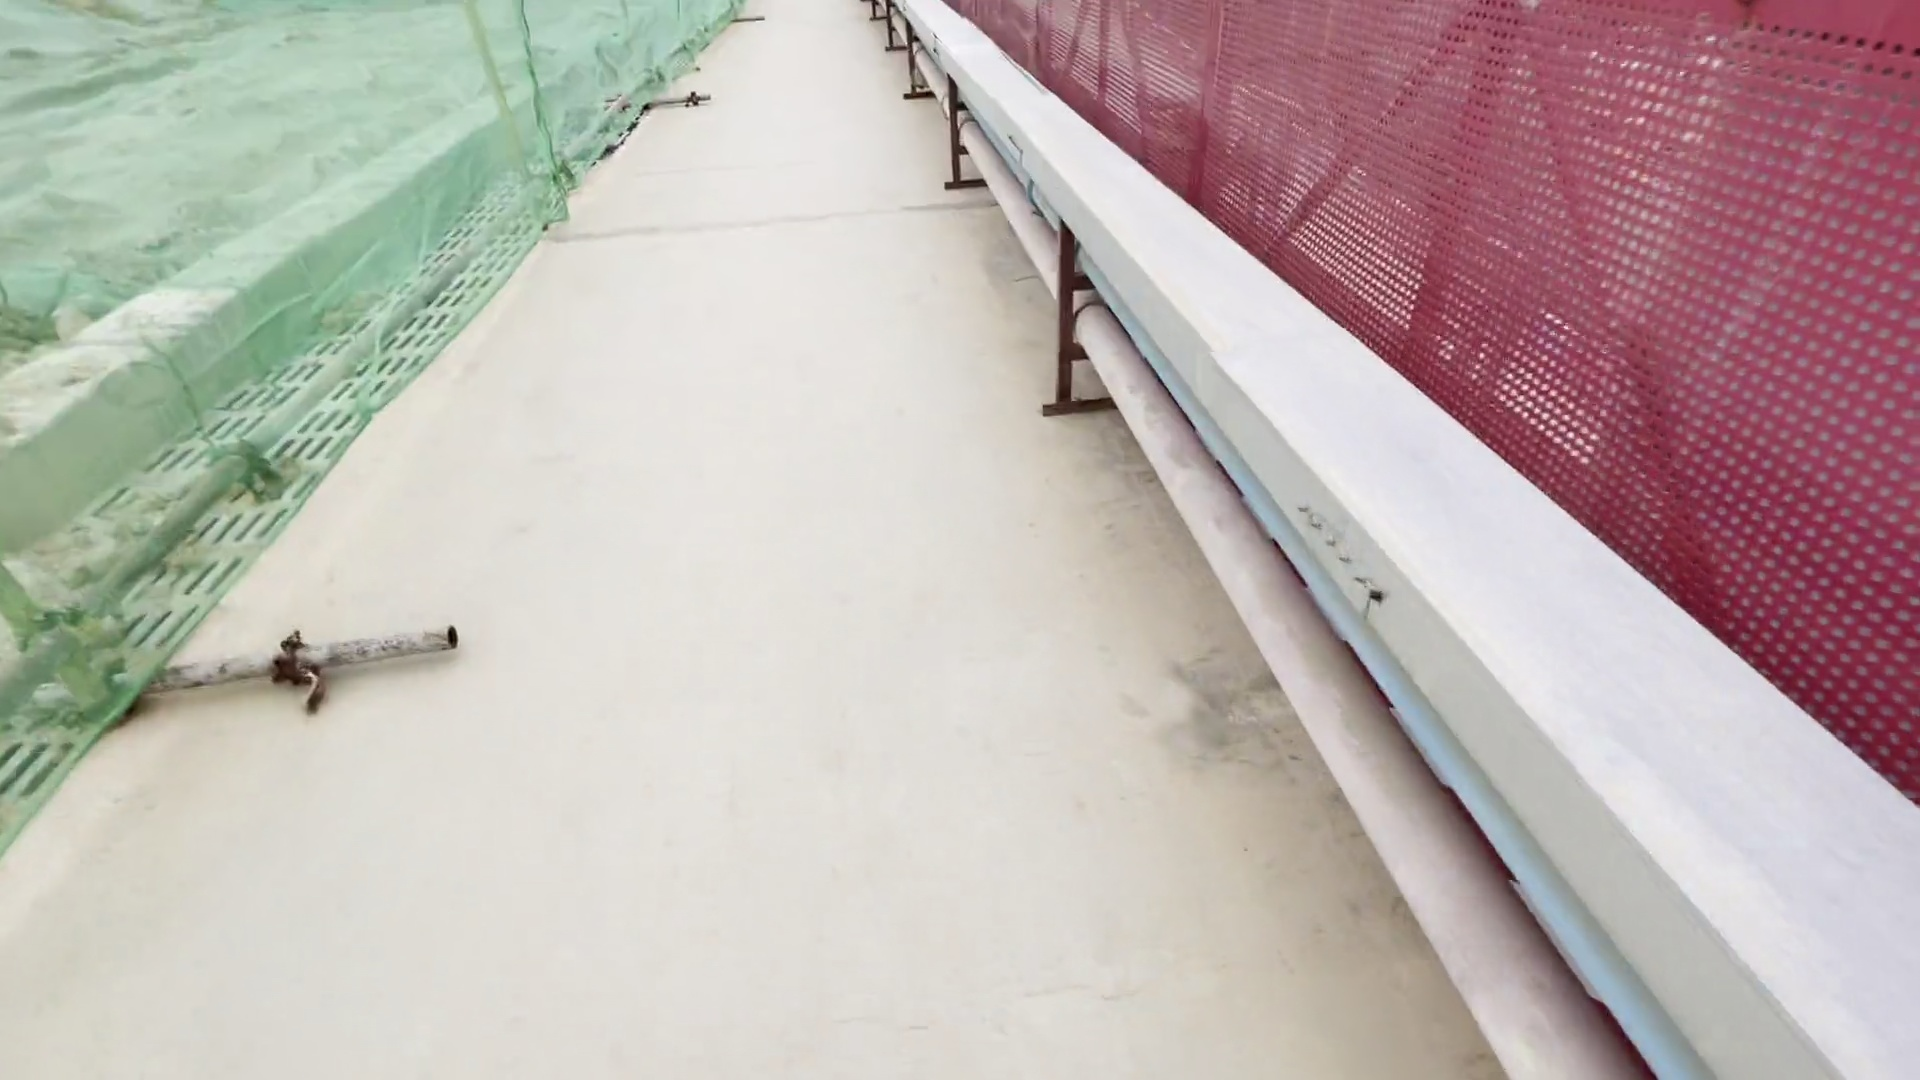fence: (957, 1, 1836, 702)
